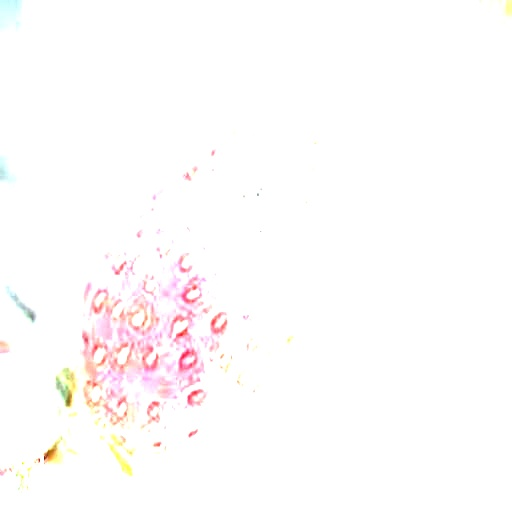Gray Mold: (184, 133, 330, 320)
